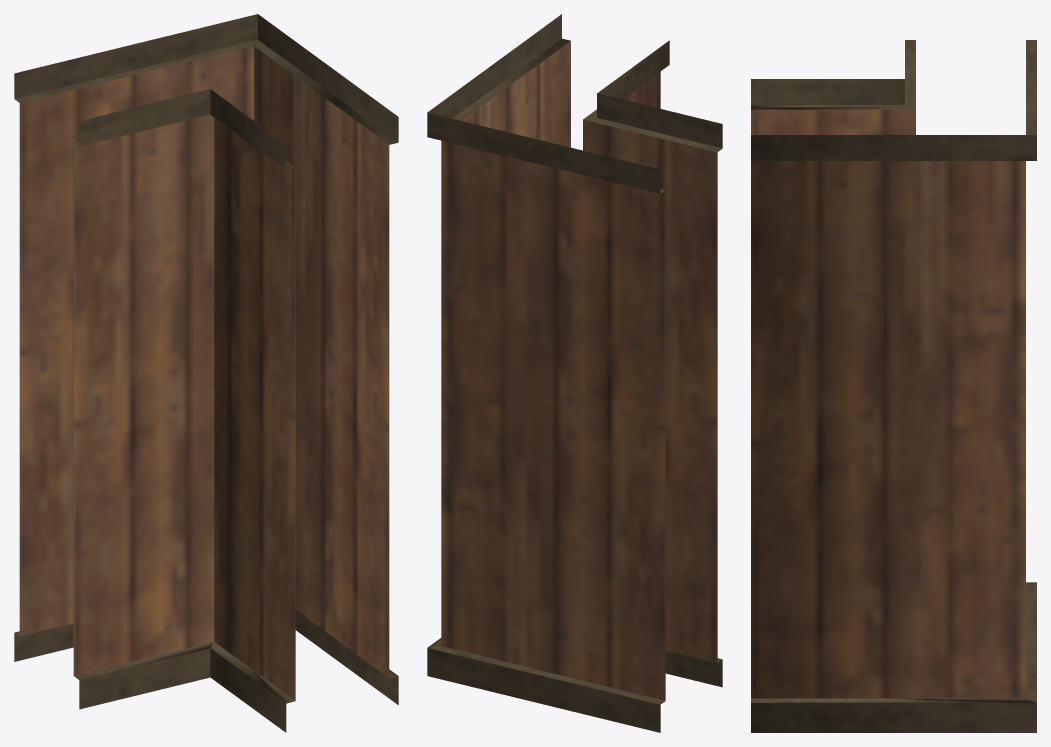
File: MS_3mWallpiece_L.fbx
The picture shows the model from 3 angles, left to right: view 1: azimuth 30°, elevation 25°; view 2: azimuth 150°, elevation 25°; view 3: azimuth 270°, elevation 25°; orthographic projection. The views are drawn at different scales.
Visible parts, largest first — view 1: Cube; view 2: Cube; view 3: Cube.
Part boxes in pixels (box(x1,y1,x2,y2)): Cube: box(14, 14, 398, 732); Cube: box(427, 14, 722, 732); Cube: box(751, 40, 1036, 732).
Size of the model in its own units: 130 by 300 by 130.
